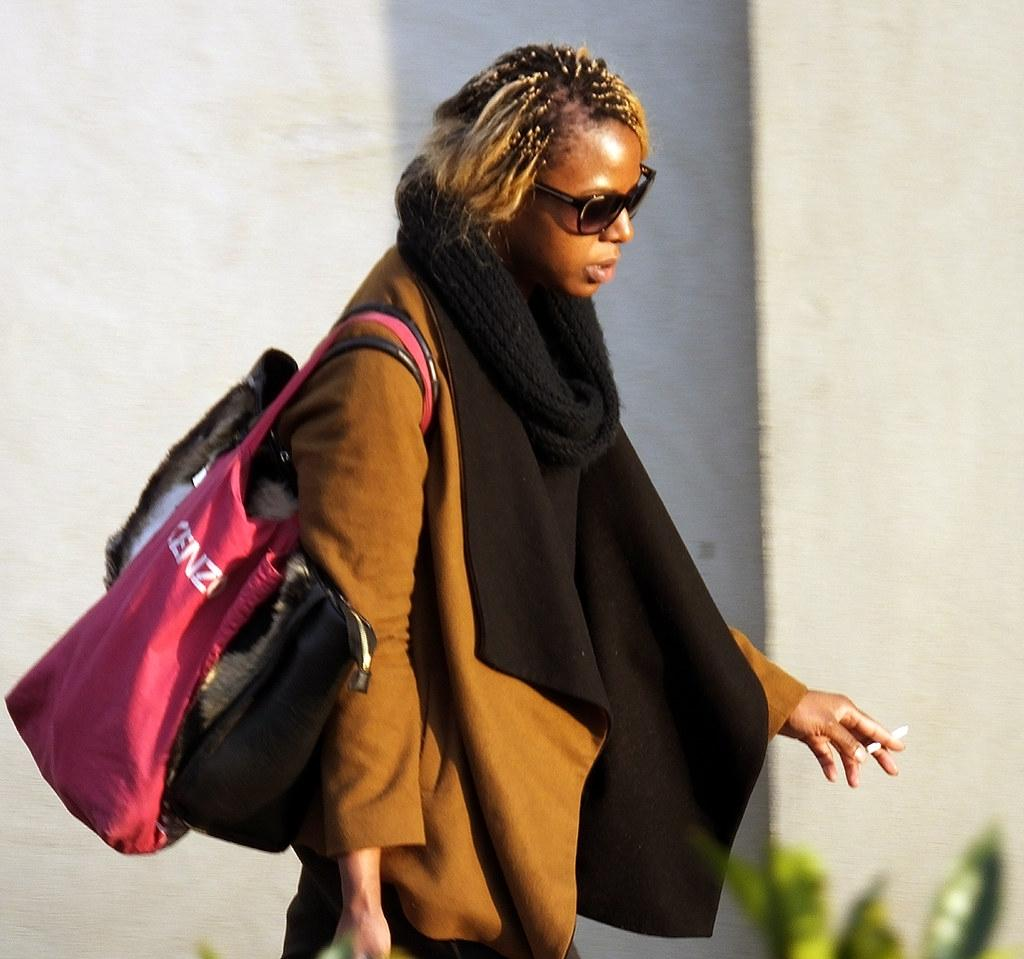cigarette: (864, 724, 911, 754)
